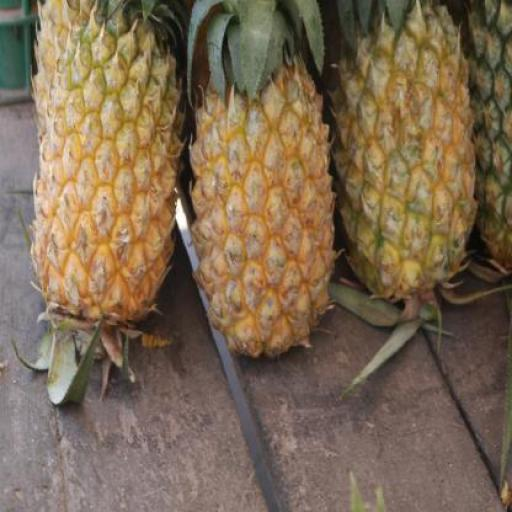------------------------------: (333, 12, 476, 304)
Pineapple - v8 v1: (37, 12, 182, 335), (188, 57, 338, 359)
